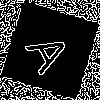A: (25, 25, 82, 77)
